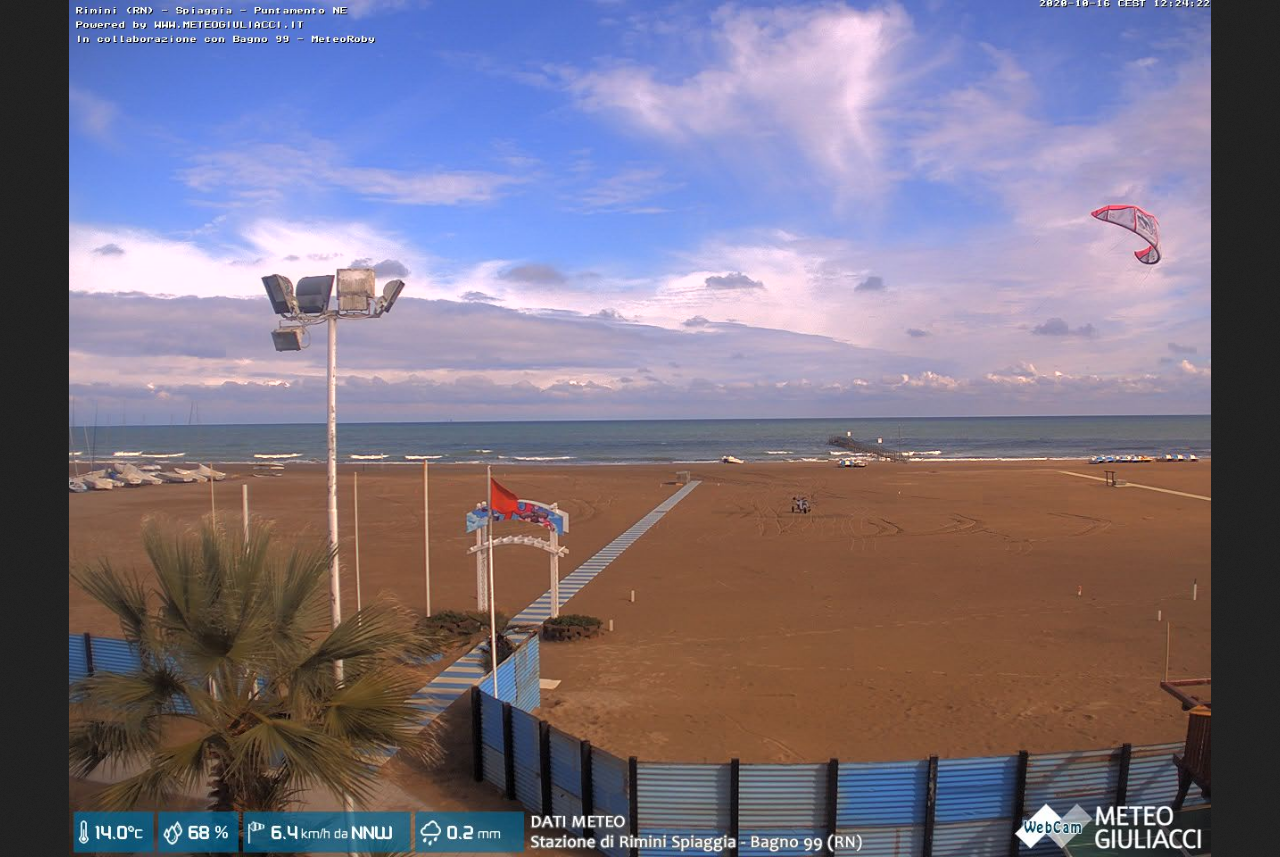yes: (488, 480, 518, 519)
